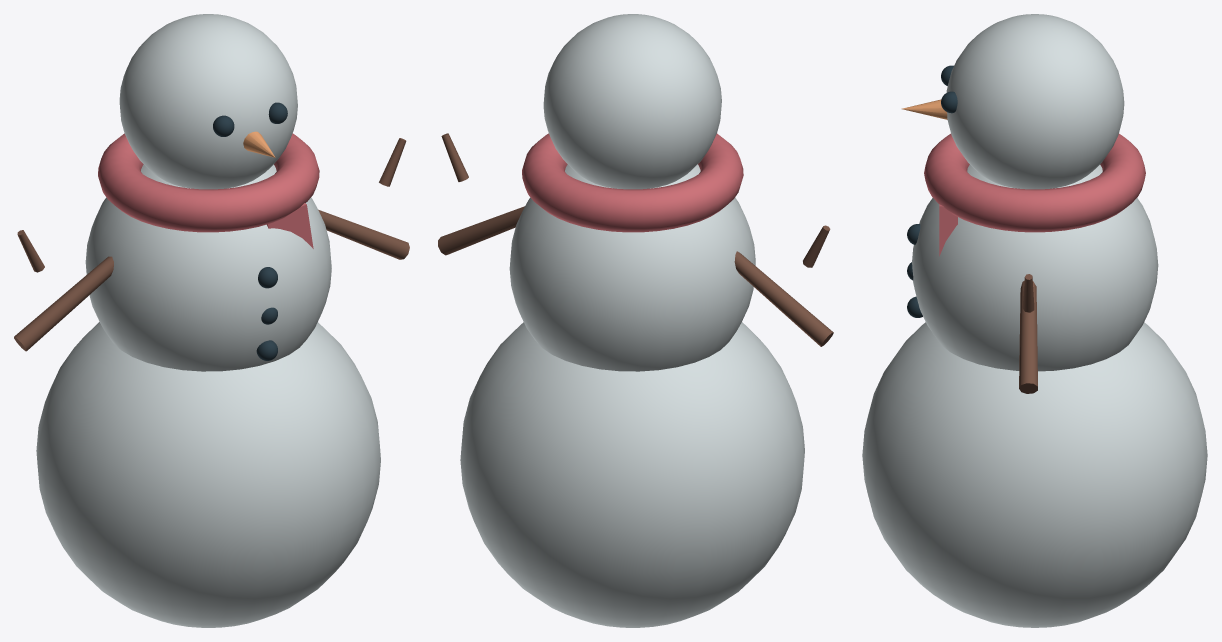
Rendered from 温柔雪人.glb.
3 renders of one model, left to right at view 1: azimuth 30°, elevation 25°; view 2: azimuth 150°, elevation 25°; view 3: azimuth 270°, elevation 25°, orthographic.
Parts seen in each view (by area): view 1: SnowBase, SnowMiddle, SnowHead, StageDetails; view 2: SnowBase, SnowMiddle, SnowHead, StageDetails; view 3: SnowBase, SnowMiddle, SnowHead, StageDetails.
Part boxes in pixels (box(x1,y1,x2,y2)): SnowBase: box(36, 322, 380, 627); SnowMiddle: box(85, 164, 331, 371); SnowHead: box(119, 14, 297, 189); StageDetails: box(14, 131, 409, 351); SnowBase: box(460, 322, 804, 627); SnowMiddle: box(509, 164, 755, 371); SnowHead: box(543, 14, 721, 189); StageDetails: box(438, 133, 833, 346); SnowBase: box(862, 322, 1207, 627); SnowMiddle: box(912, 165, 1158, 371); SnowHead: box(946, 14, 1124, 189); StageDetails: box(901, 99, 1145, 393).
Bounding box in the file's own units: 1.47 × 2.11 × 1.12.
